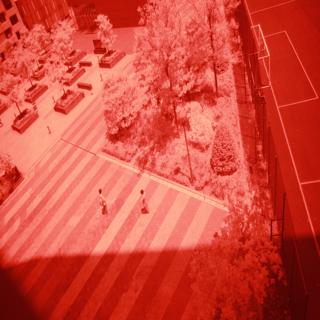person: (92, 181, 110, 220), (134, 185, 152, 219)
